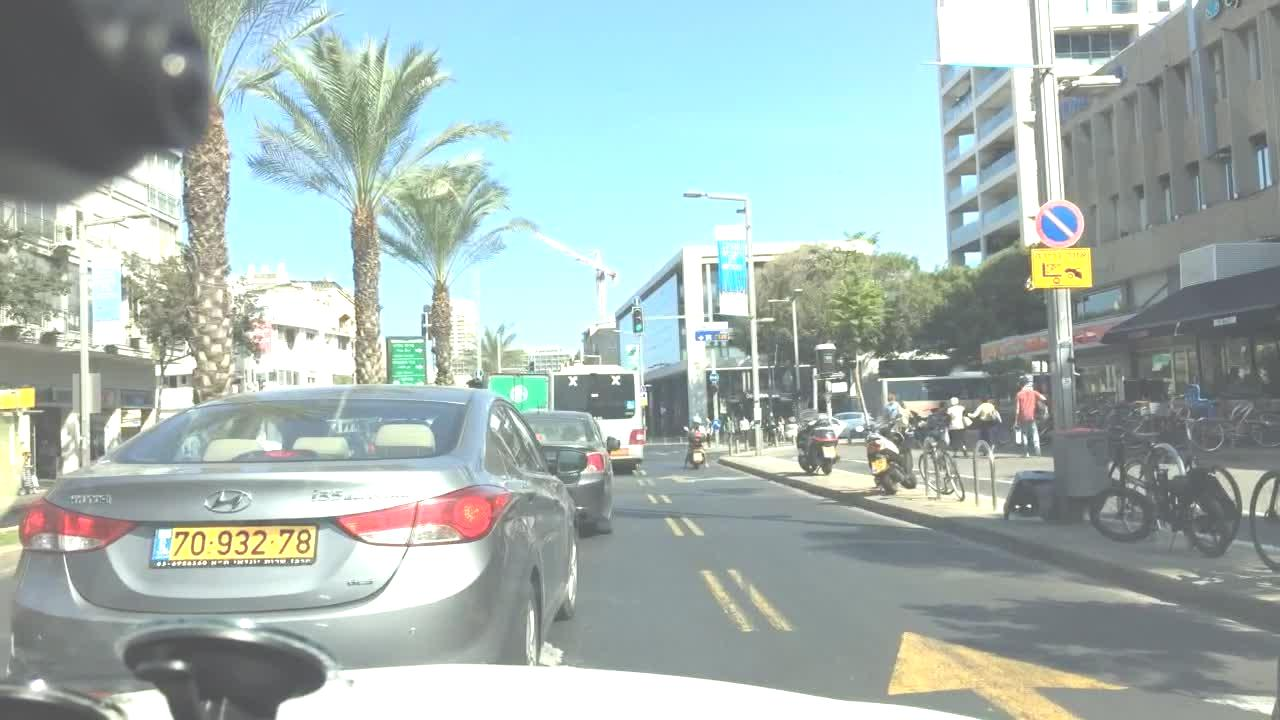Hyundai: (186, 473, 267, 522)
